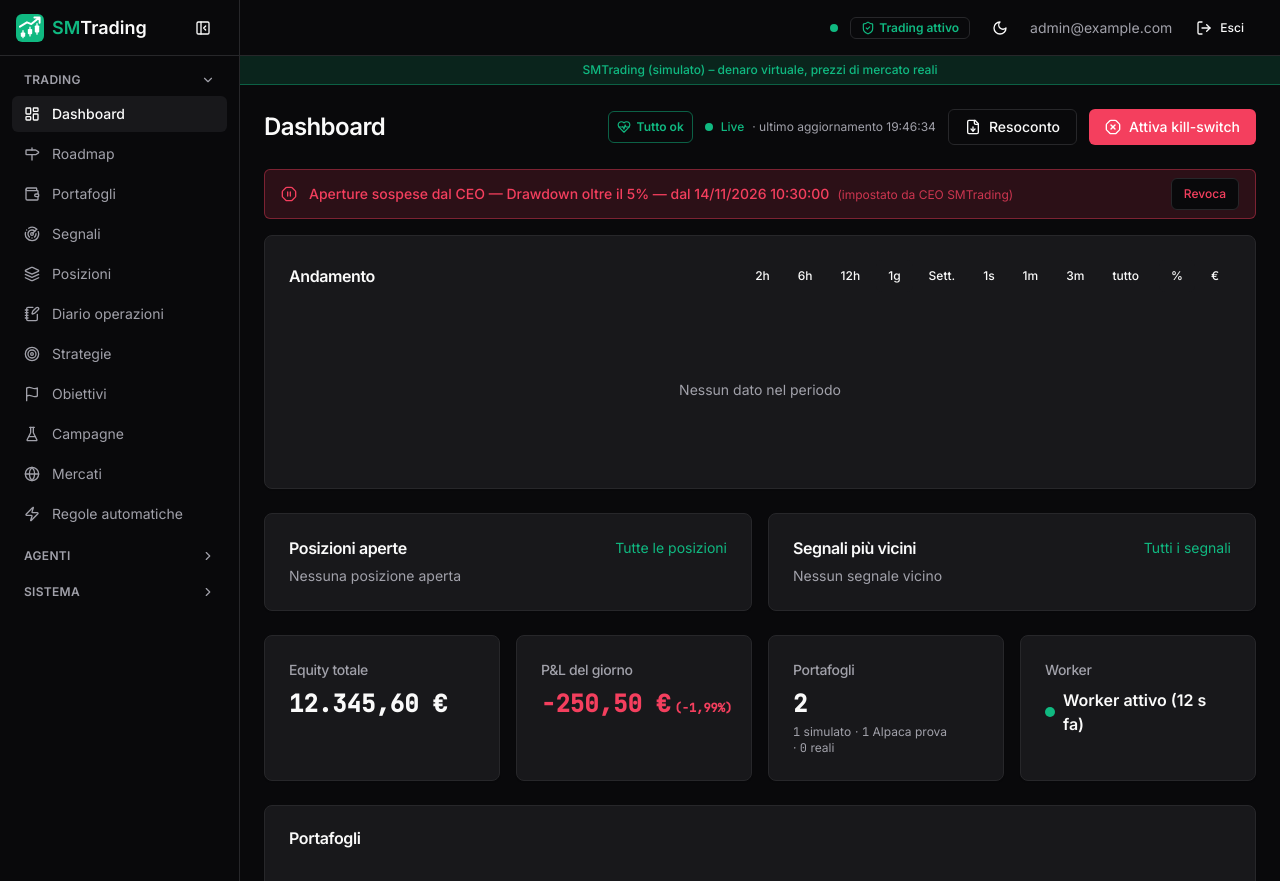
Scenario: Dashboard halt banner › shows the active halt and revokes it after confirmation
Expected: the message named "Blocco aperture" shows "Aperture sospese dal CEO — Drawdown oltre il 5% — dal 14/11/2026 10:30:00", [309,185,829,202]
Expected: the message named "Blocco aperture" shows "(impostato da CEO SMTrading)", [264,169,1256,219]
Click the button "Revoca". click: (1205, 194)
box: [1171,178,1239,210]
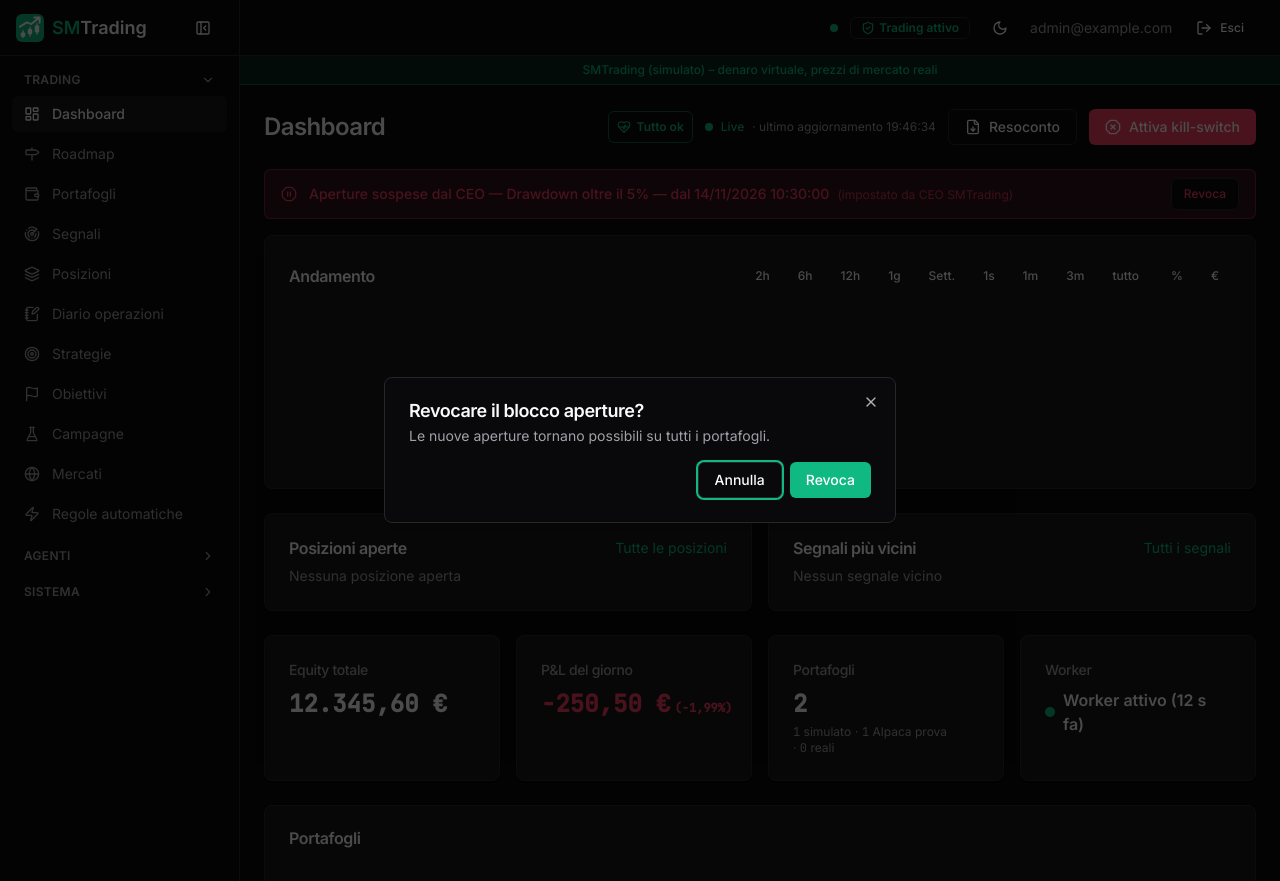
Click the button "Revoca". click: (830, 480)
box: [790,462,871,498]
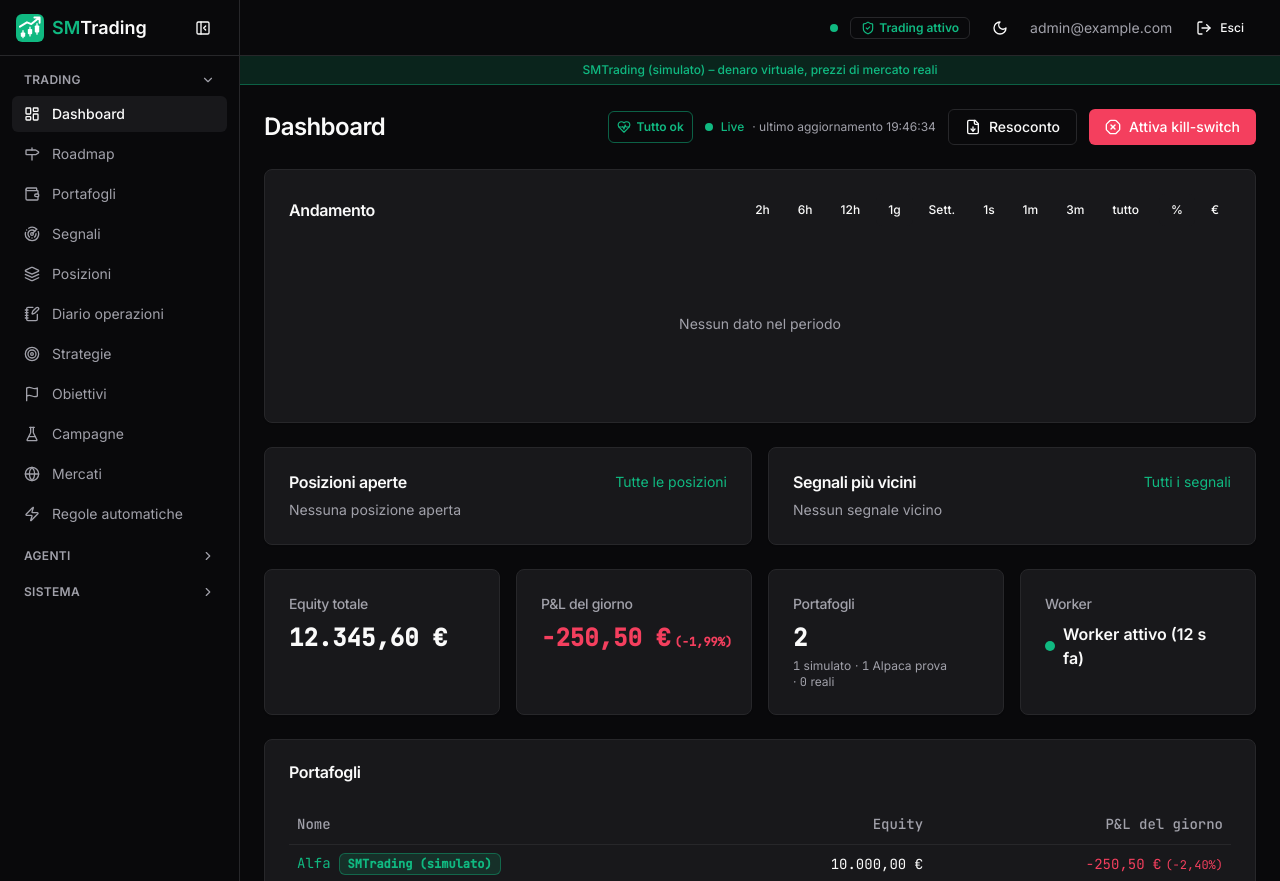
Result: the heading "blocco aperture" is gone
